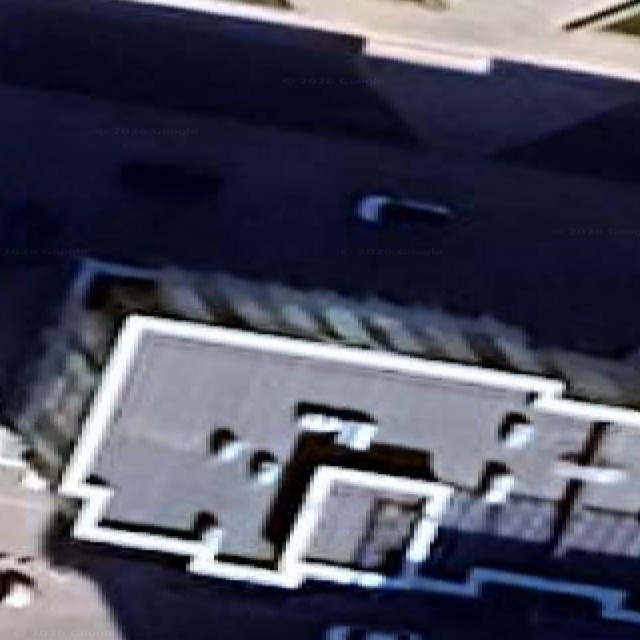car: (353, 193, 453, 224), (324, 626, 422, 639)
